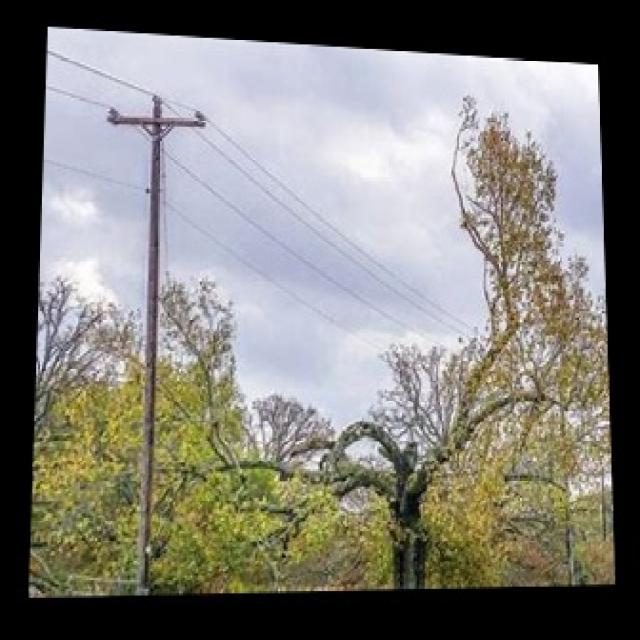utility poles: (104, 64, 204, 594)
